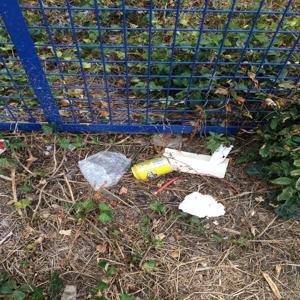metal: (131, 156, 176, 186)
plastic: (160, 141, 231, 185), (79, 150, 133, 190), (179, 192, 239, 220)
